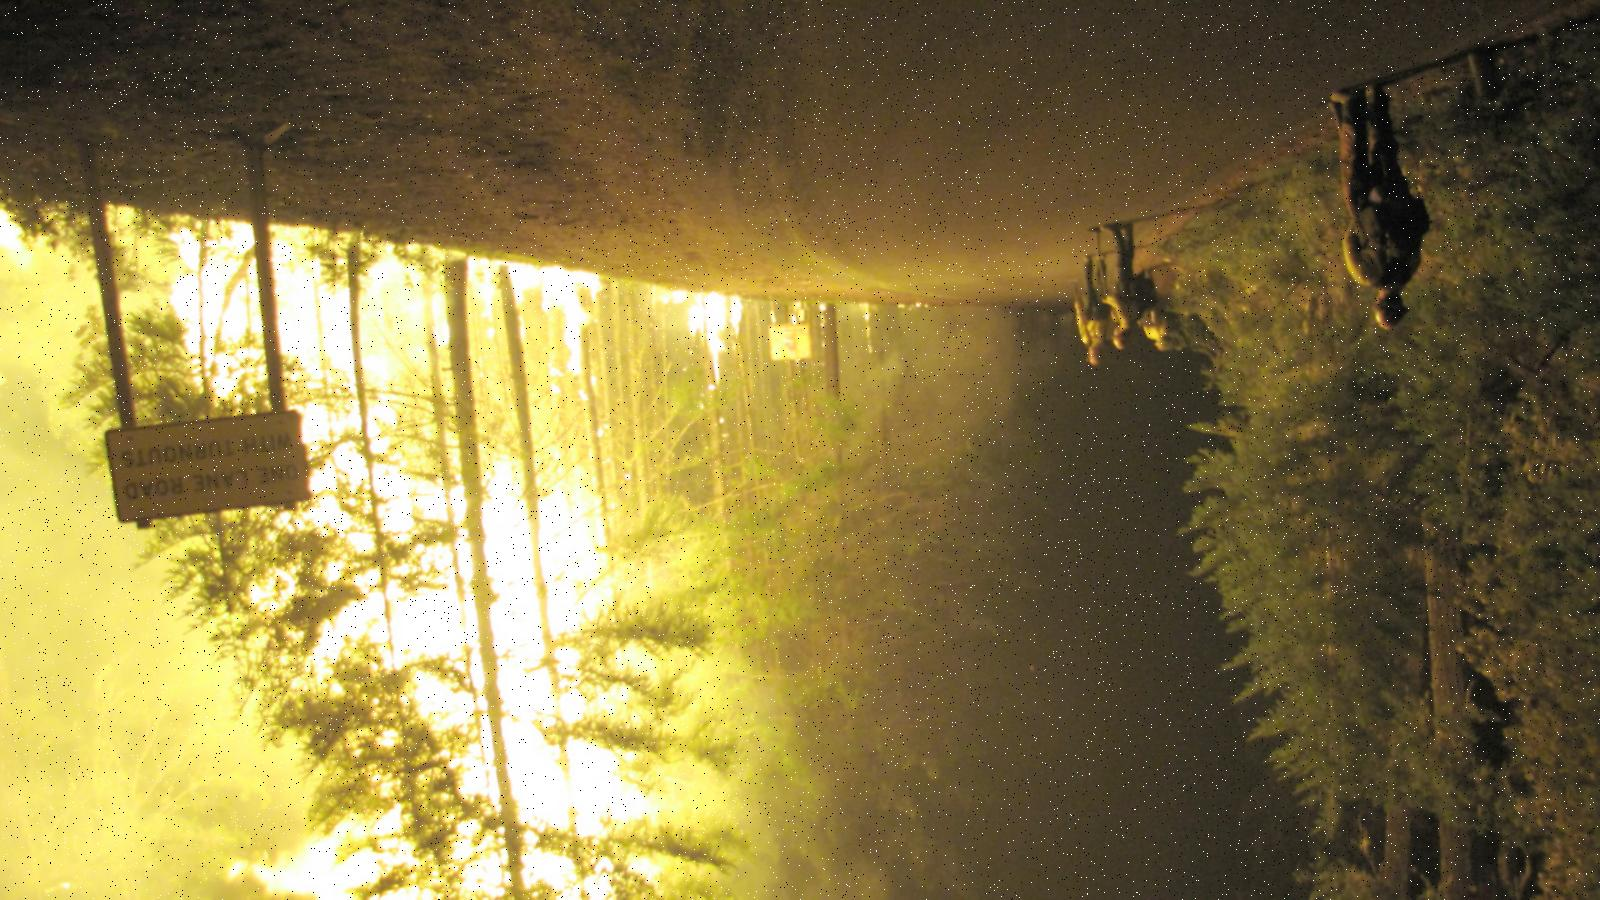fire: (64, 222, 748, 900)
